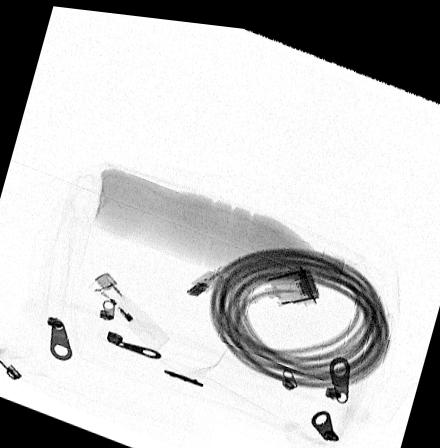Lighter: (87, 268, 169, 349)
